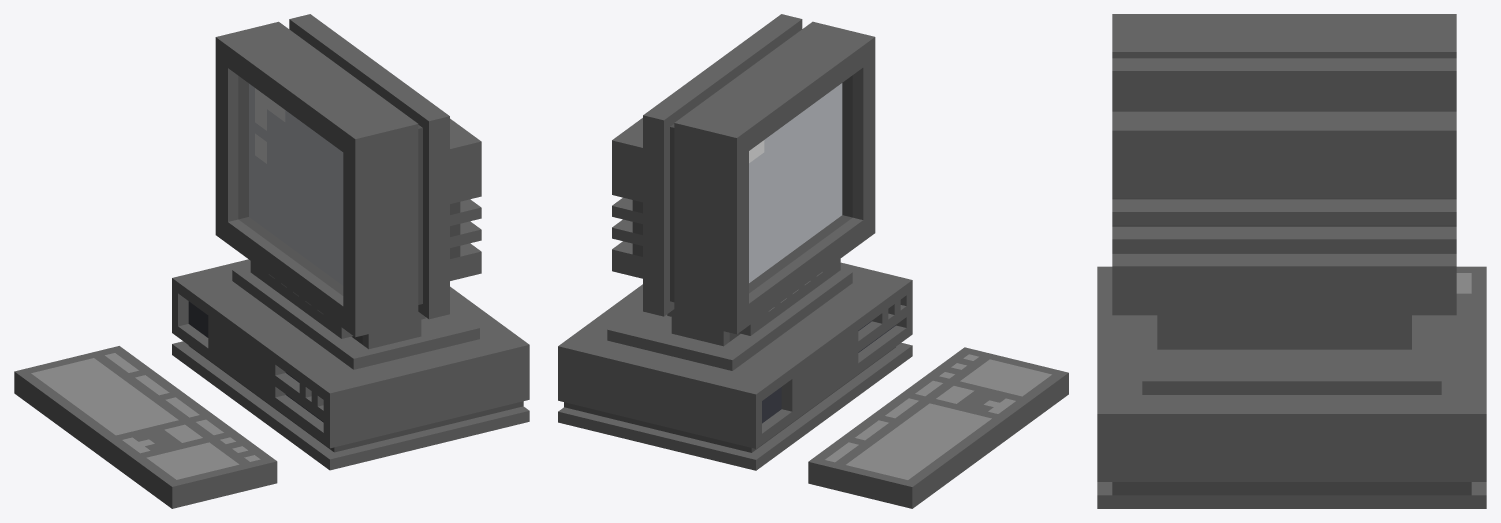
3 views of the same model, side by side, from view 1: azimuth 30°, elevation 25°; view 2: azimuth 150°, elevation 25°; view 3: azimuth 270°, elevation 25° (orthographic). The views are drawn at different scales.
Visible parts, largest first — view 1: Asset3DLoader.sceneRoot; view 2: Asset3DLoader.sceneRoot; view 3: Asset3DLoader.sceneRoot.
Boxes of the visible parts, left/top/right/bottom form: Asset3DLoader.sceneRoot: left=14, top=14, right=529, bottom=508; Asset3DLoader.sceneRoot: left=558, top=14, right=1068, bottom=508; Asset3DLoader.sceneRoot: left=1097, top=14, right=1486, bottom=508.
Bounding box in the file's own units: 3.4 × 2.9 × 2.6.
Materials: 1 (1 with a texture image).
